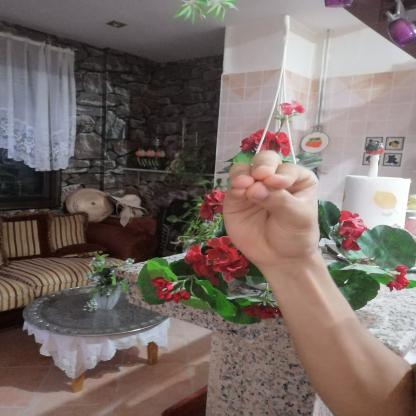HA: (214, 139, 332, 273)
